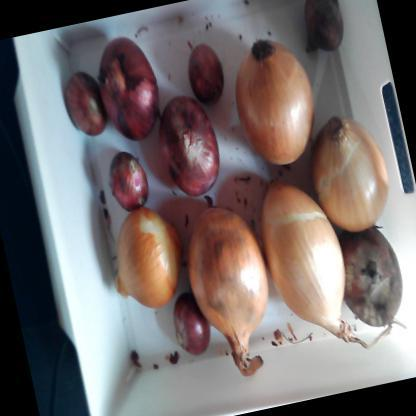onion: (175, 200, 288, 370), (222, 20, 329, 186), (147, 76, 234, 209), (88, 30, 173, 150)
